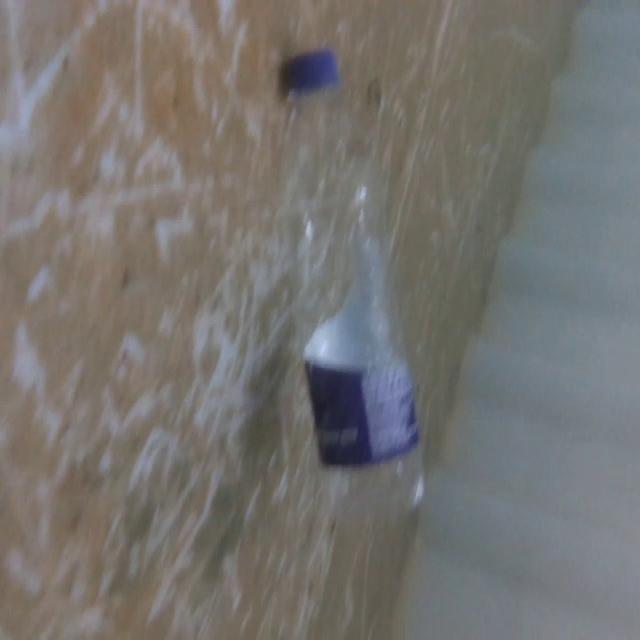plastic bottle: (276, 36, 437, 529)
